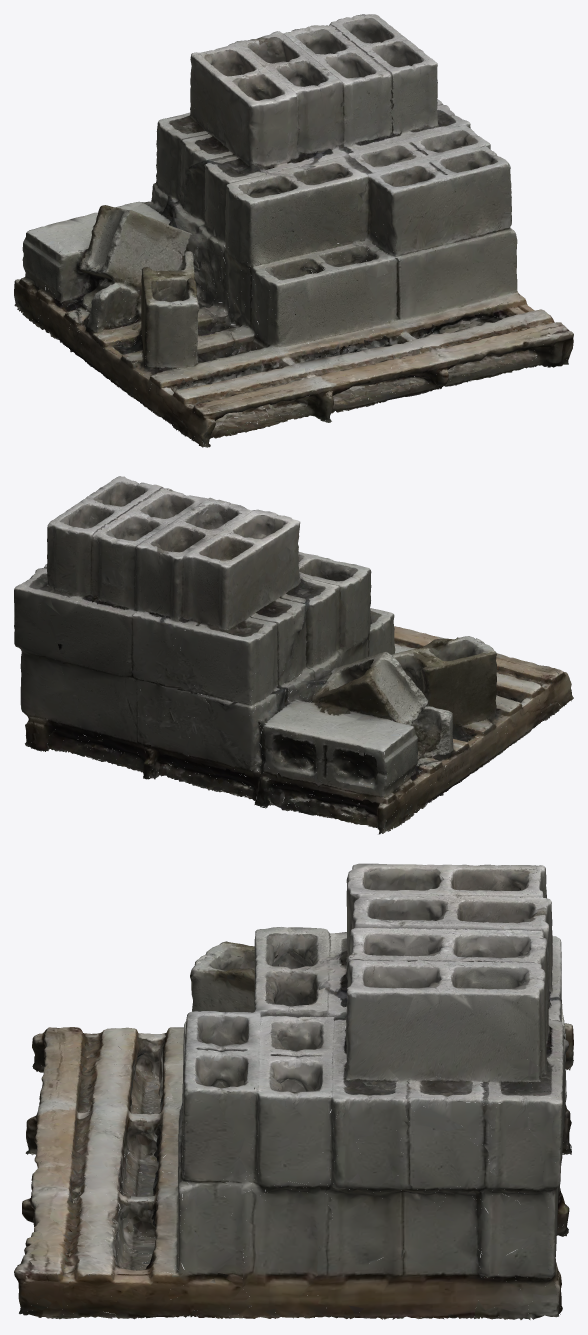
File: bricks-pallet.glb
The picture shows the model from 3 angles, top to bottom: view 1: azimuth 30°, elevation 25°; view 2: azimuth 150°, elevation 25°; view 3: azimuth 270°, elevation 25°; orthographic projection. The views are drawn at different scales.
Visible parts, largest first — view 1: texturedMesh_TextureAtlas_1002_0, texturedMesh_TextureAtlas_1006_0, texturedMesh_TextureAtlas_1003_0, texturedMesh_TextureAtlas_1001_0, texturedMesh_TextureAtlas_1005_0, texturedMesh_TextureAtlas_1004_0, texturedMesh_TextureAtlas_1007_0; view 2: texturedMesh_TextureAtlas_1002_0, texturedMesh_TextureAtlas_1004_0, texturedMesh_TextureAtlas_1005_0, texturedMesh_TextureAtlas_1003_0, texturedMesh_TextureAtlas_1006_0, texturedMesh_TextureAtlas_1001_0, texturedMesh_TextureAtlas_1007_0; view 3: texturedMesh_TextureAtlas_1001_0, texturedMesh_TextureAtlas_1005_0, texturedMesh_TextureAtlas_1002_0, texturedMesh_TextureAtlas_1006_0, texturedMesh_TextureAtlas_1004_0, texturedMesh_TextureAtlas_1003_0, texturedMesh_TextureAtlas_1007_0.
Boxes of the visible parts, bbox=[...] form: texturedMesh_TextureAtlas_1002_0: bbox=[14, 14, 571, 436]; texturedMesh_TextureAtlas_1006_0: bbox=[14, 14, 573, 447]; texturedMesh_TextureAtlas_1003_0: bbox=[47, 22, 573, 445]; texturedMesh_TextureAtlas_1001_0: bbox=[14, 17, 556, 447]; texturedMesh_TextureAtlas_1005_0: bbox=[14, 20, 570, 438]; texturedMesh_TextureAtlas_1004_0: bbox=[27, 14, 551, 447]; texturedMesh_TextureAtlas_1007_0: bbox=[42, 25, 545, 430]; texturedMesh_TextureAtlas_1002_0: bbox=[16, 483, 560, 829]; texturedMesh_TextureAtlas_1004_0: bbox=[14, 501, 548, 816]; texturedMesh_TextureAtlas_1005_0: bbox=[20, 478, 570, 831]; texturedMesh_TextureAtlas_1003_0: bbox=[47, 483, 571, 797]; texturedMesh_TextureAtlas_1006_0: bbox=[14, 484, 573, 834]; texturedMesh_TextureAtlas_1001_0: bbox=[14, 476, 573, 832]; texturedMesh_TextureAtlas_1007_0: bbox=[96, 503, 522, 823]; texturedMesh_TextureAtlas_1001_0: bbox=[24, 865, 572, 1318]; texturedMesh_TextureAtlas_1005_0: bbox=[19, 864, 573, 1319]; texturedMesh_TextureAtlas_1002_0: bbox=[19, 863, 573, 1319]; texturedMesh_TextureAtlas_1006_0: bbox=[14, 864, 573, 1319]; texturedMesh_TextureAtlas_1004_0: bbox=[24, 864, 566, 1318]; texturedMesh_TextureAtlas_1003_0: bbox=[14, 864, 568, 1319]; texturedMesh_TextureAtlas_1007_0: bbox=[47, 865, 571, 1268].
Size of the model in its own units: 1.2 by 0.6869 by 1.09.
Materials: 7 (7 with a texture image).
